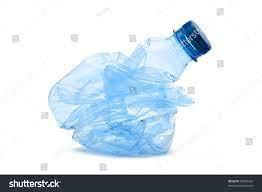BIODEGRADABLE: (48, 16, 214, 160)
